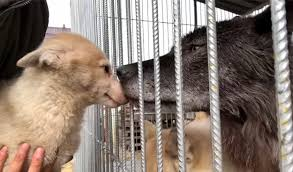Lobo: (114, 11, 277, 138)
